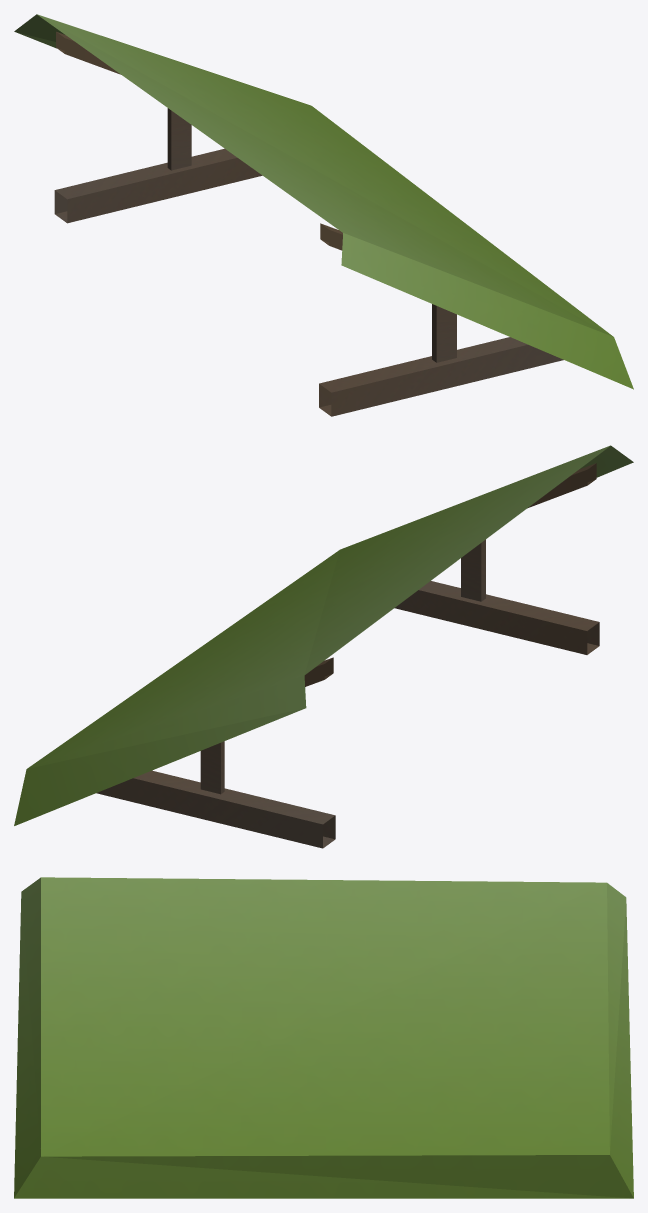
Rendered from Shed_5A_LOD1.fbx.
3 views of the same model, one above another, from view 1: azimuth 30°, elevation 25°; view 2: azimuth 150°, elevation 25°; view 3: azimuth 270°, elevation 25° (orthographic). The views are drawn at different scales.
Parts seen in each view (by area): view 1: polySurface9871; view 2: polySurface9871; view 3: polySurface9871.
Boxes of the visible parts, box(x1,y1,x2,y2) form: polySurface9871: box(14, 14, 633, 416); polySurface9871: box(14, 445, 633, 848); polySurface9871: box(14, 877, 633, 1198).
Bounding box in the file's own units: 213 × 151 × 430.
